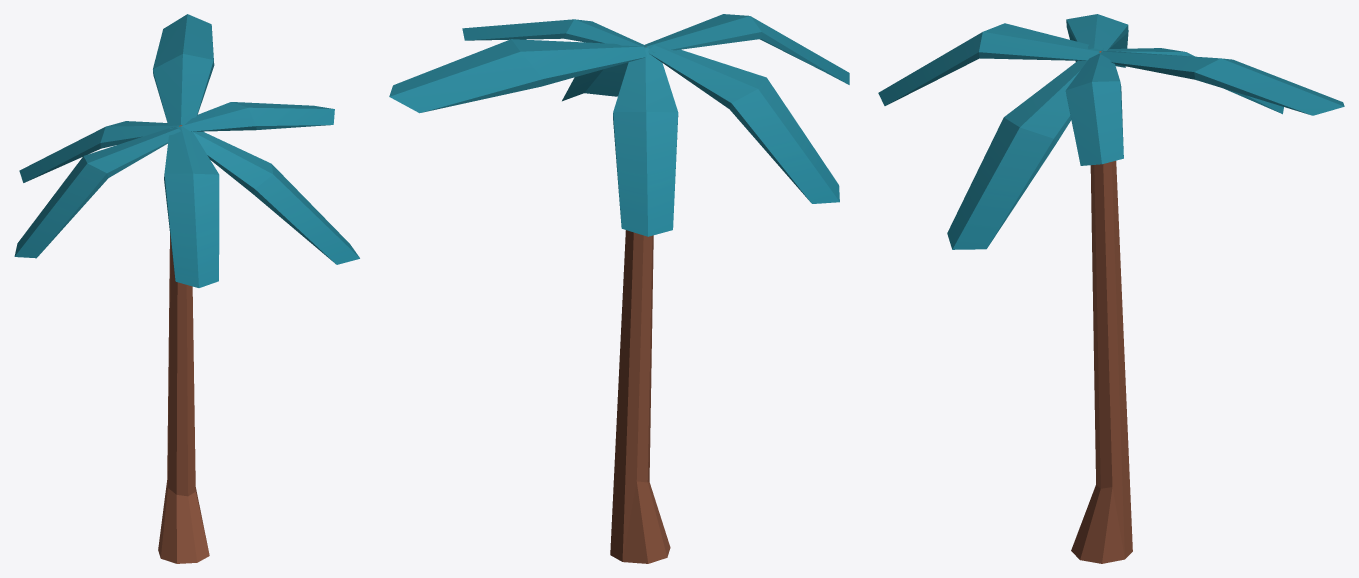
Rendered from Tree_39_gradient_blue_pal.fbx.
3 views of the same model, side by side, from view 1: azimuth 30°, elevation 25°; view 2: azimuth 150°, elevation 25°; view 3: azimuth 270°, elevation 25° (orthographic). The views are drawn at different scales.
Parts seen in each view (by area): view 1: Tree_39_gradient_blue_pal; view 2: Tree_39_gradient_blue_pal; view 3: Tree_39_gradient_blue_pal.
Part boxes in pixels (x1,y1,x2,y2): Tree_39_gradient_blue_pal: (14,14,359,563); Tree_39_gradient_blue_pal: (389,14,849,563); Tree_39_gradient_blue_pal: (878,14,1344,563).
Size of the model in its own units: 152 by 204 by 166.
